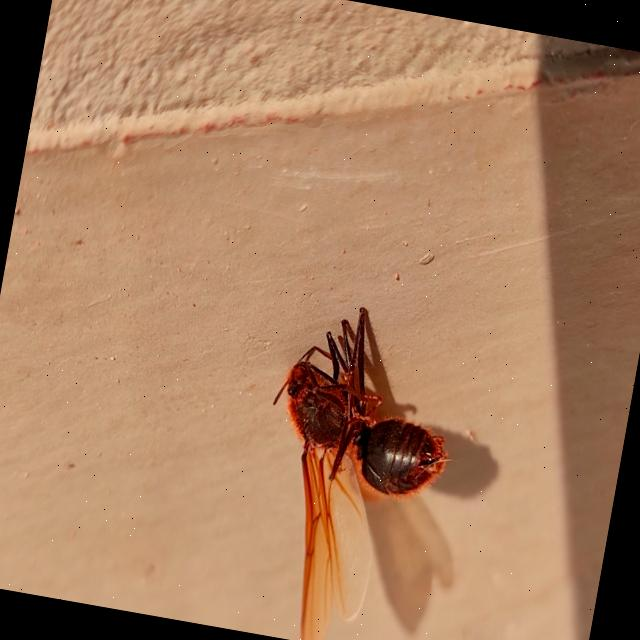Dead-Male-Alate: (233, 296, 469, 640)
